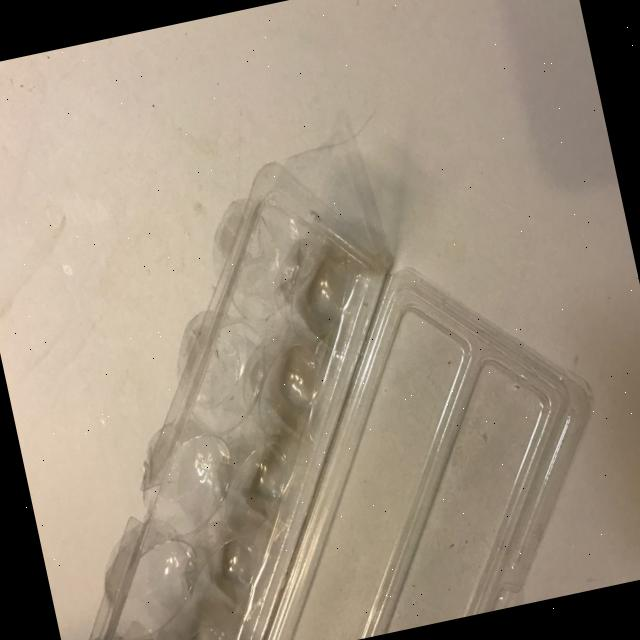plastic: (0, 78, 630, 640)
